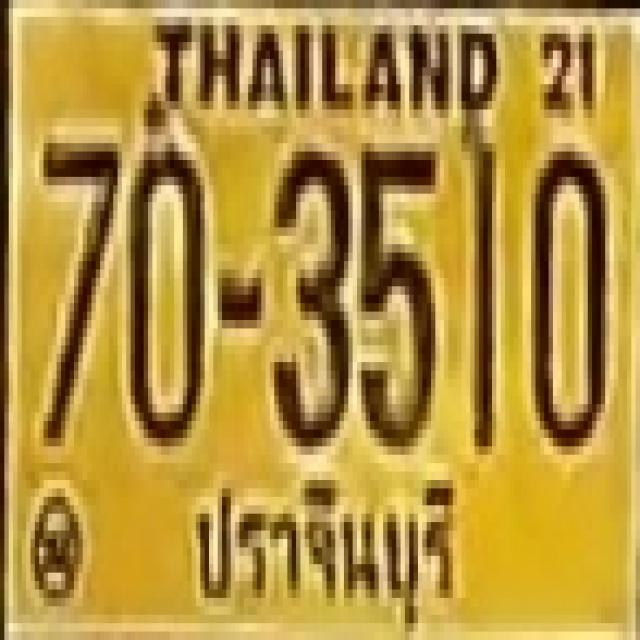0: (529, 143, 603, 446), (127, 135, 200, 438)
1: (468, 143, 494, 446)
3: (270, 147, 348, 442)
5: (357, 143, 431, 446)
7: (39, 135, 118, 438)
PRI: (178, 458, 462, 639)
